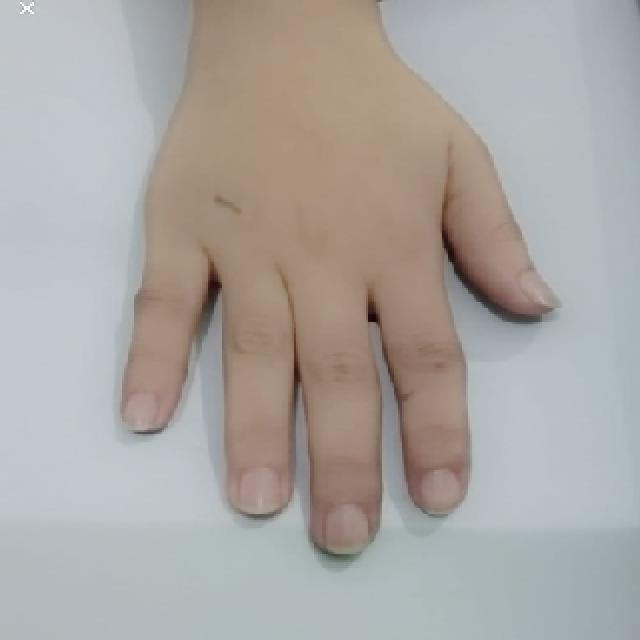Nail: (325, 504, 370, 554), (239, 468, 281, 515), (421, 471, 463, 515), (519, 269, 561, 310), (122, 393, 158, 430)
